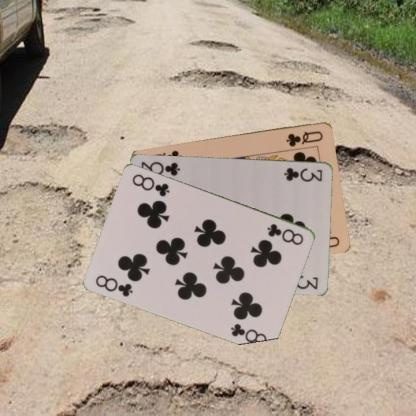3c: (282, 165, 324, 182)
8c: (93, 272, 135, 298), (265, 221, 305, 246)
Qc: (284, 128, 324, 147)
